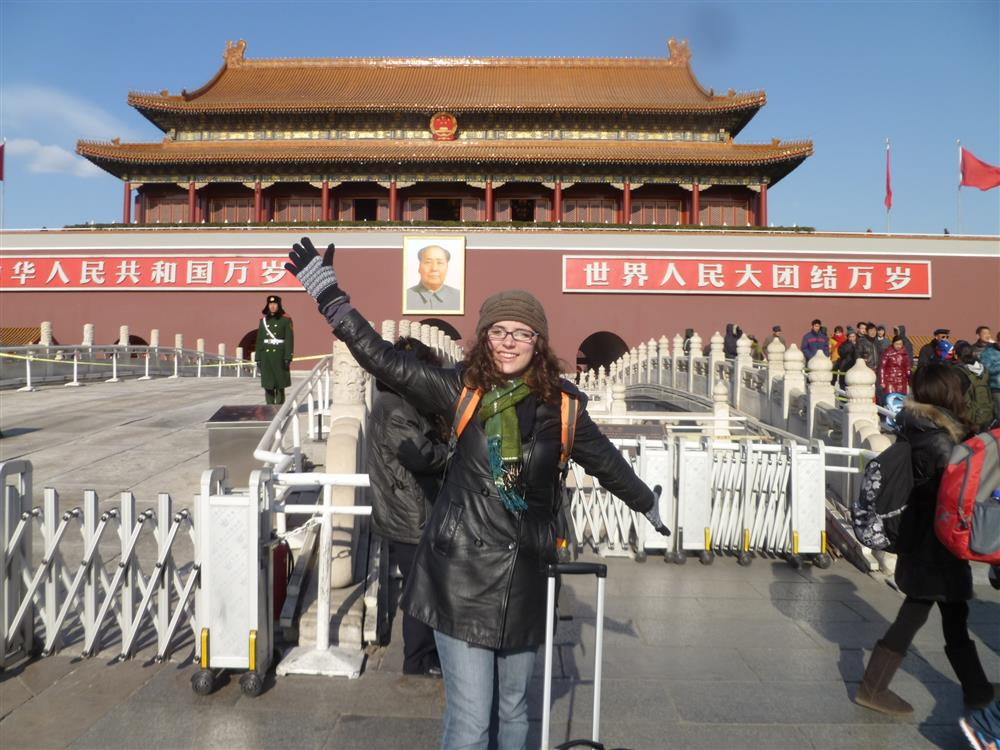Tiananmen: (0, 42, 997, 352)
